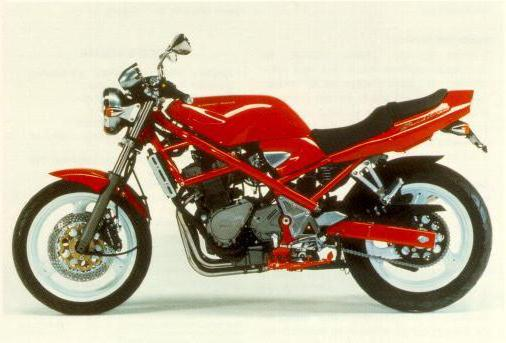motorcycle: (1, 26, 498, 326)
